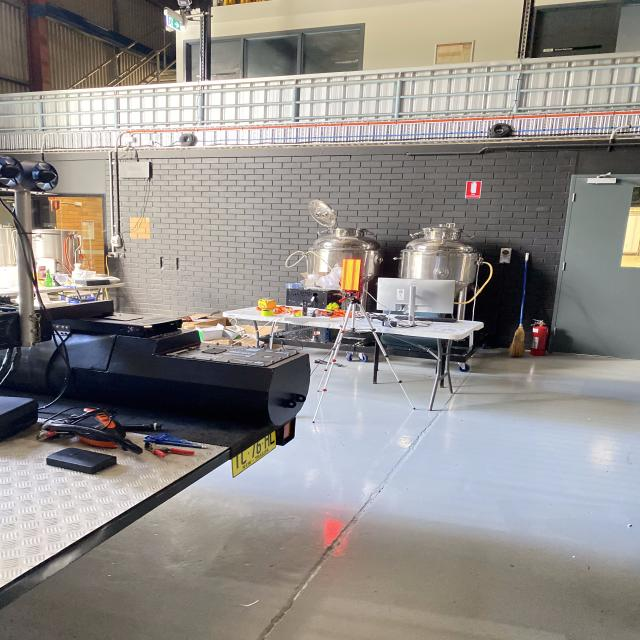matrix: (337, 257, 368, 293)
